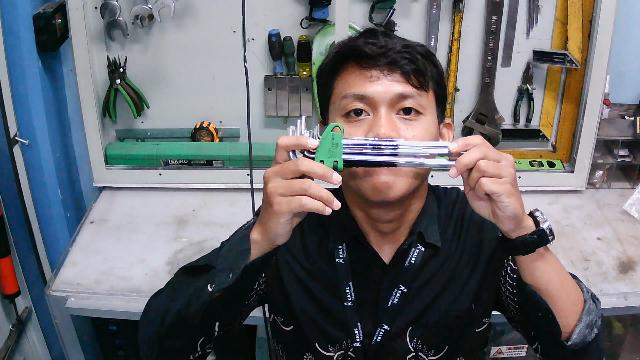kunci_l: (282, 115, 473, 177)
